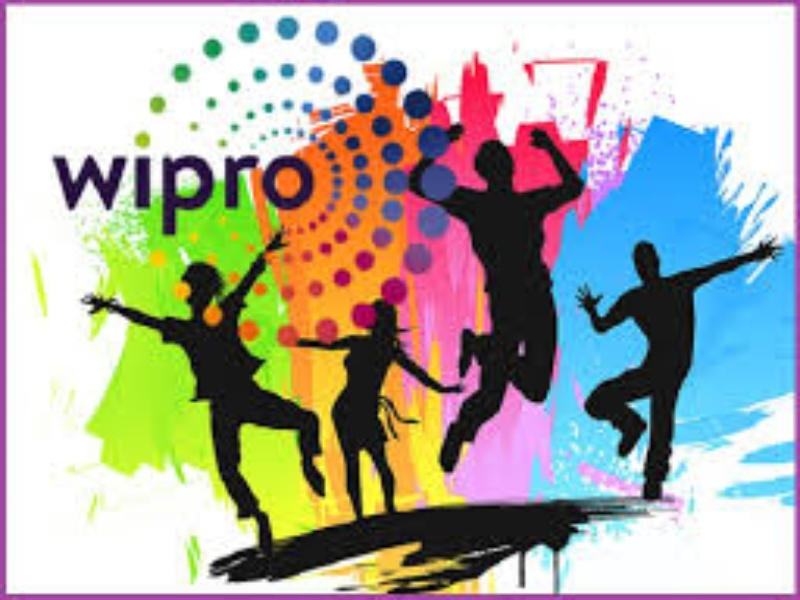wipro: (40, 4, 466, 344)
